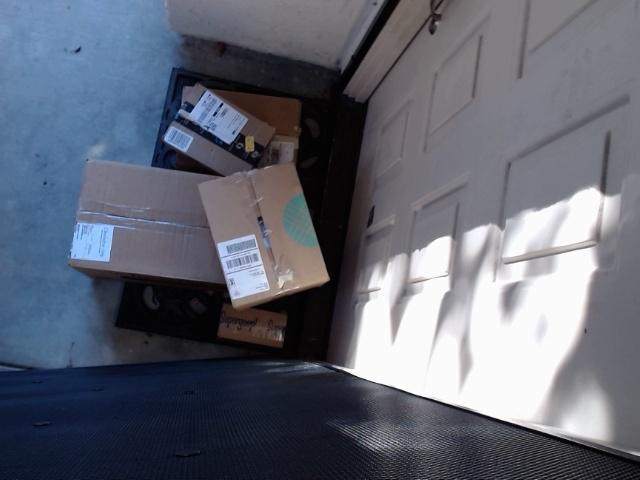box: (63, 137, 292, 309), (196, 165, 361, 322), (149, 54, 308, 181), (168, 83, 293, 165)
